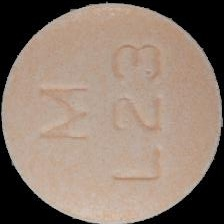51079-981: (0, 0, 224, 224)
